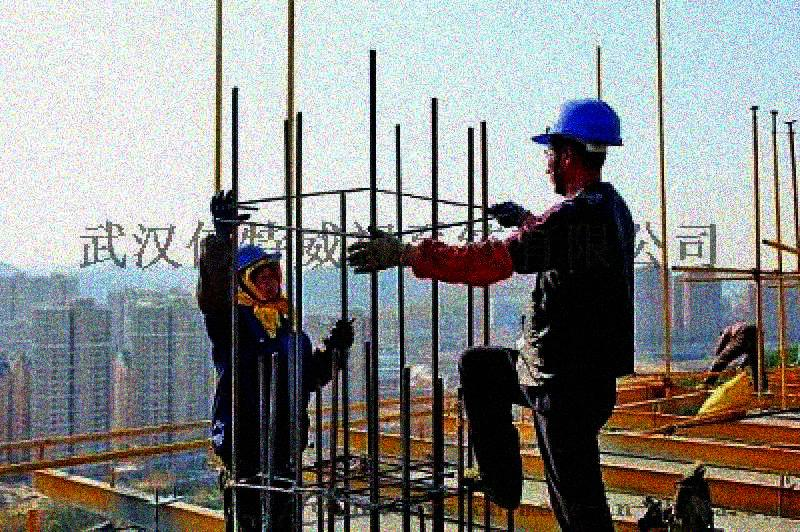helmet: (529, 97, 624, 195), (229, 241, 282, 305)
